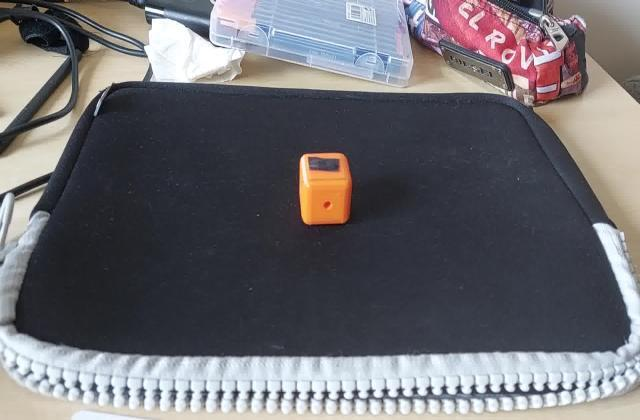black: (304, 155, 344, 176)
cube: (296, 150, 352, 228)
